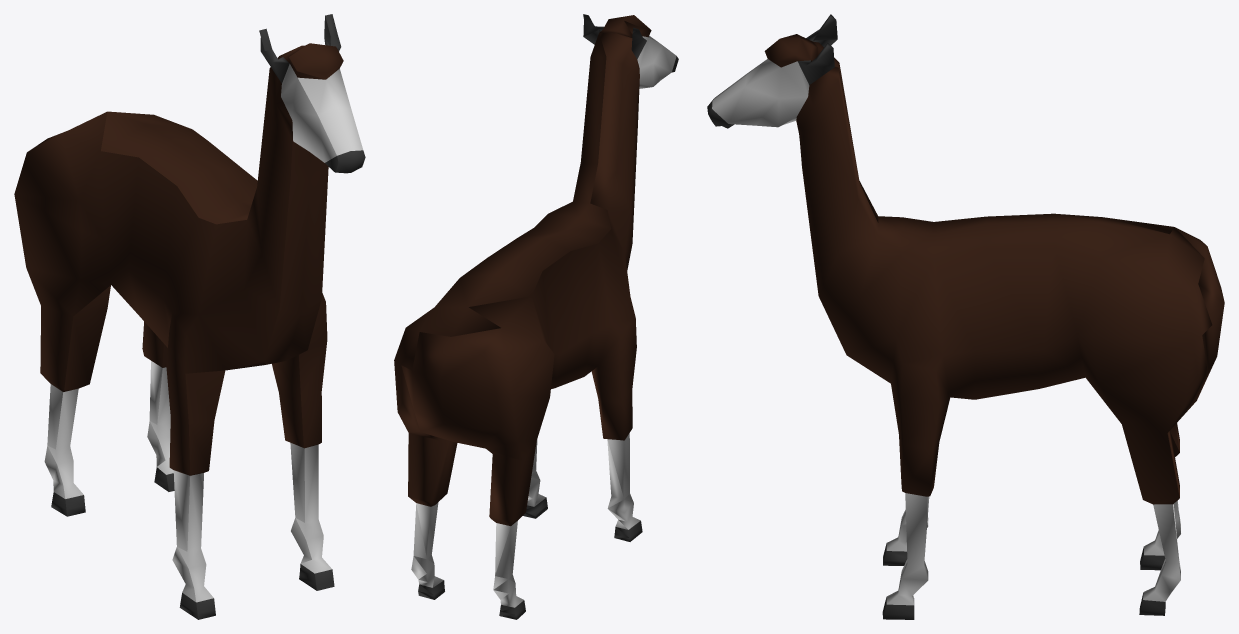
The model's file is Llama.obj.
The picture shows the model from 3 angles, left to right: view 1: azimuth 30°, elevation 25°; view 2: azimuth 150°, elevation 25°; view 3: azimuth 270°, elevation 25°; orthographic projection. The views are drawn at different scales.
Visible parts, largest first — view 1: Llama_Cylinder_Brown, Llama_Cylinder_White, Llama_Cylinder_Grey; view 2: Llama_Cylinder_Brown, Llama_Cylinder_White, Llama_Cylinder_Grey; view 3: Llama_Cylinder_Brown, Llama_Cylinder_White, Llama_Cylinder_Grey.
Part boxes in pixels (x1,y1,x2,y2): Llama_Cylinder_Brown: (14, 43, 343, 475); Llama_Cylinder_White: (44, 64, 362, 602); Llama_Cylinder_Grey: (51, 14, 365, 619); Llama_Cylinder_Brown: (394, 15, 651, 526); Llama_Cylinder_White: (411, 35, 676, 607); Llama_Cylinder_Grey: (418, 14, 678, 619); Llama_Cylinder_Brown: (764, 34, 1224, 504); Llama_Cylinder_White: (712, 59, 1180, 605); Llama_Cylinder_Grey: (707, 14, 1165, 619).
Bounding box in the file's own units: 1.57 × 5.85 × 4.91.
